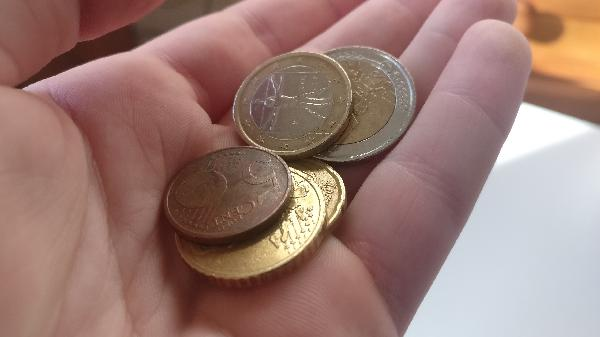Fifty Cent: (172, 167, 328, 296)
Five Cent: (163, 144, 299, 243)
One Euro: (232, 52, 352, 161)
Two Euro: (292, 45, 418, 166)
